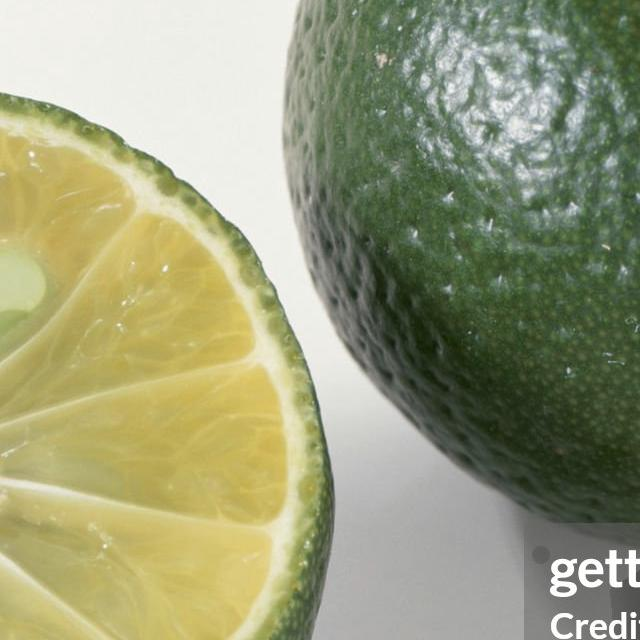lime: (279, 0, 640, 538)
